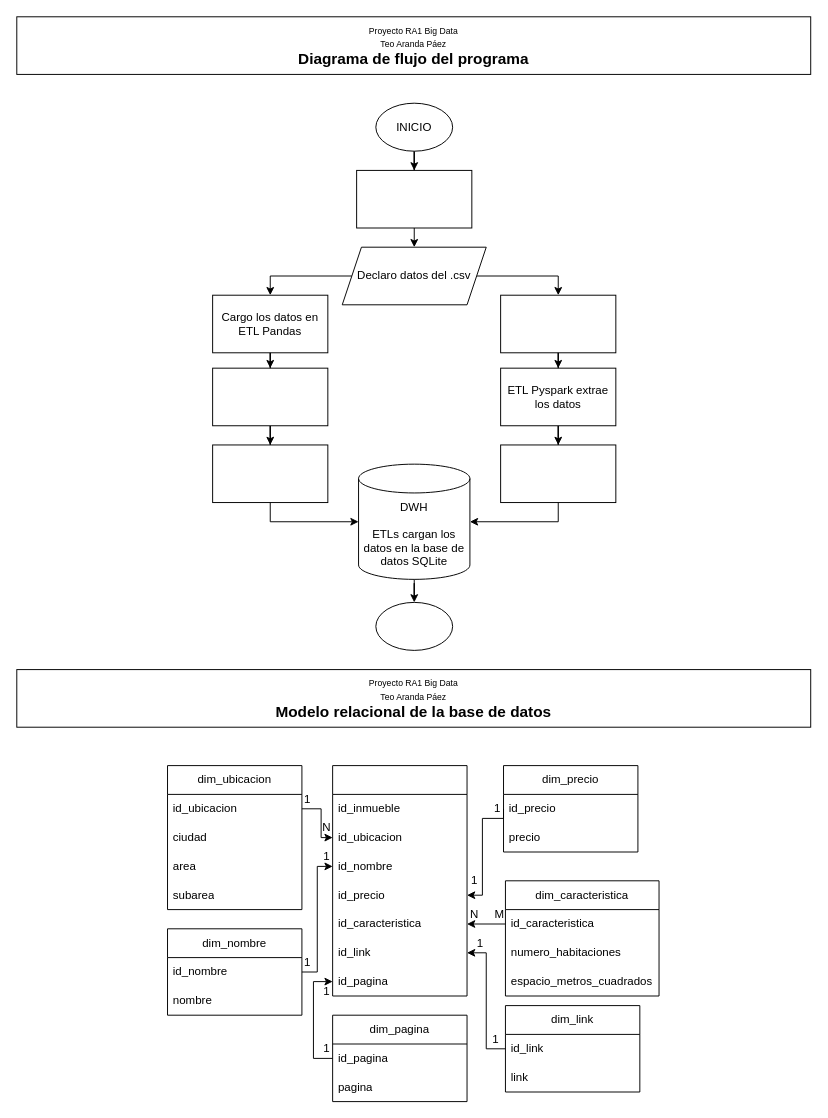
Some shapes in this 828 by 1118 pixel diagram are drawn without their labels. Here are the shapes that lost their labels. From the top down, the box of each, then its label:
(356, 169, 472, 228): Contenedor Docker se inicia
(500, 294, 616, 353): Cargo los datos en ETL Pyspark
(212, 367, 328, 426): ETL Pandas extrae los datos
(212, 444, 328, 503): ETL Pandas limpia los datos
(500, 444, 616, 503): ETL Pyspark limpia los datos
(375, 601, 453, 650): FIN
(332, 765, 467, 996): hechos_inmueble
